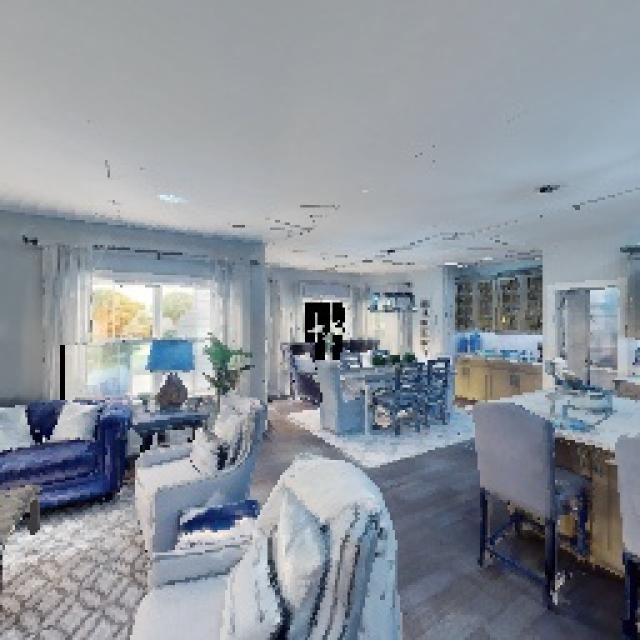chair: (447, 388, 604, 606), (363, 354, 438, 440), (416, 344, 461, 441)
sofa: (132, 437, 425, 640), (111, 366, 292, 578), (0, 377, 136, 538)
